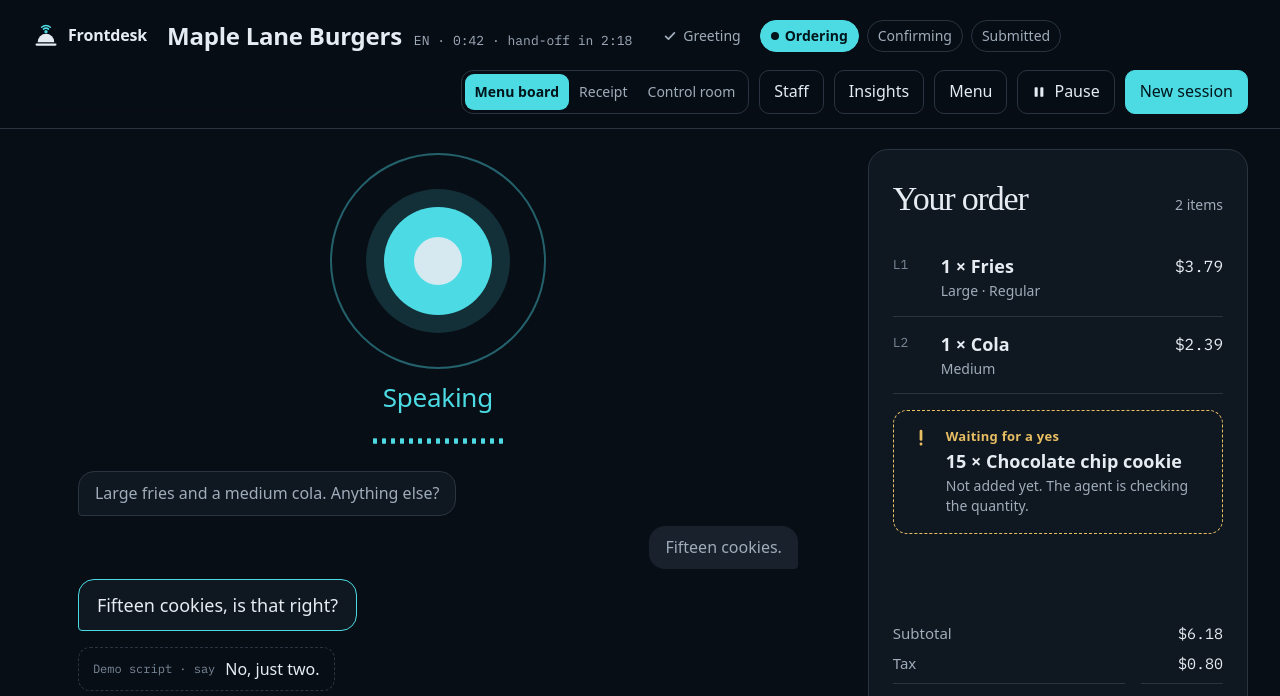
Test: menu-board view › offers the next line of the demo script, which fills the box
The image size is (1280, 696).
Click the button "Demo script · say No, just two.".
click(206, 669)  # box [78,647,334,691]
(page scrolled)
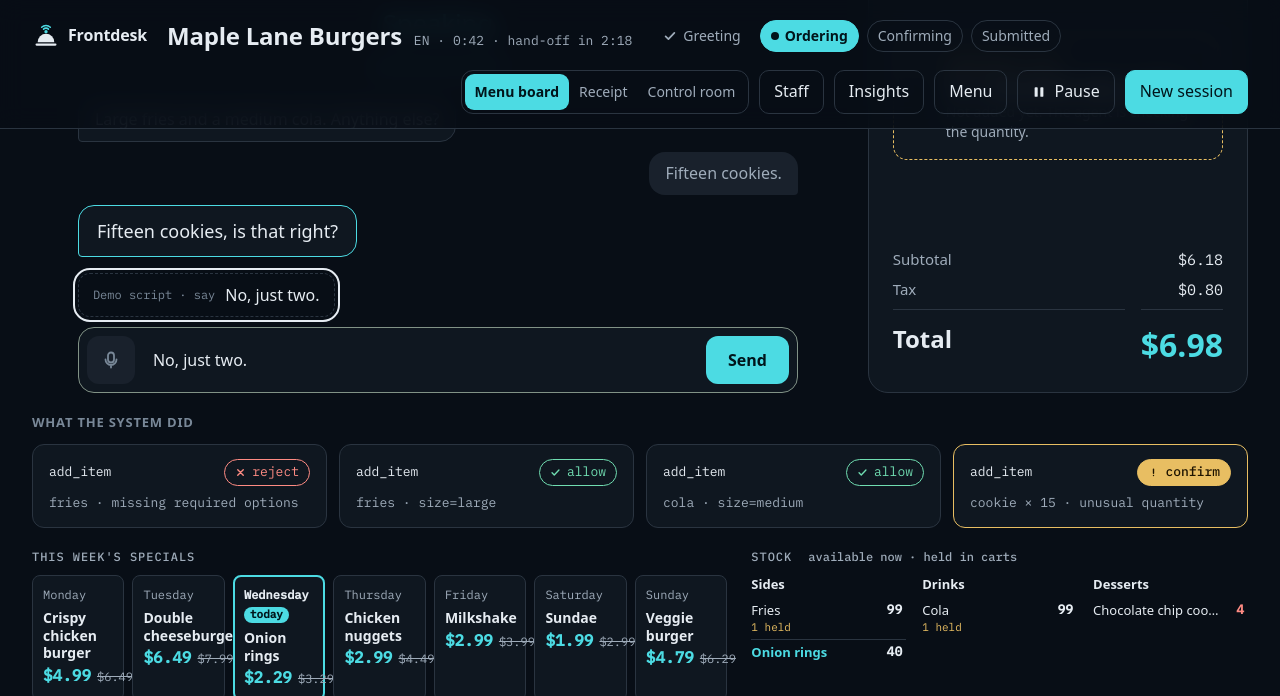
Expected: the field named "what the customer says" holds "No, just two.", [145,336,696,384]
